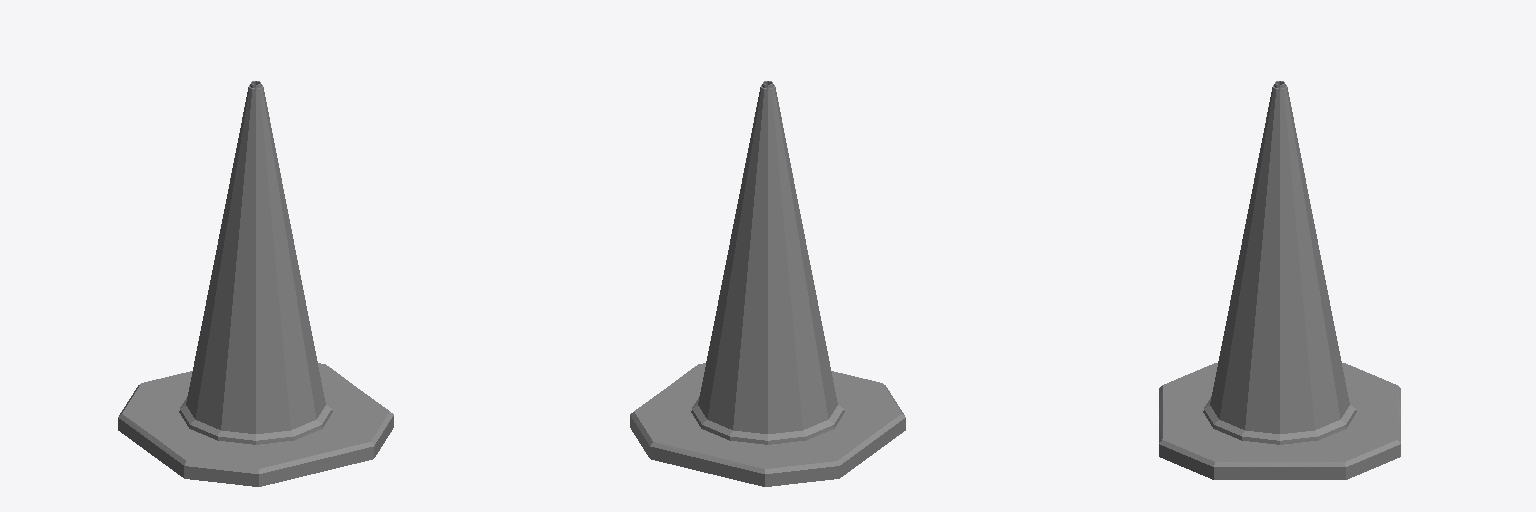
The model's file is TrafficCone.obj.
3 views of the same model, side by side, from view 1: azimuth 30°, elevation 25°; view 2: azimuth 150°, elevation 25°; view 3: azimuth 270°, elevation 25° (orthographic).
Visible parts, largest first — view 1: Box001; view 2: Box001; view 3: Box001.
Part boxes in pixels (x1,y1,x2,y2): Box001: (118,81,393,486); Box001: (630,81,905,486); Box001: (1159,81,1400,479).
Bounding box in the file's own units: 6.66 × 10.5 × 6.66.